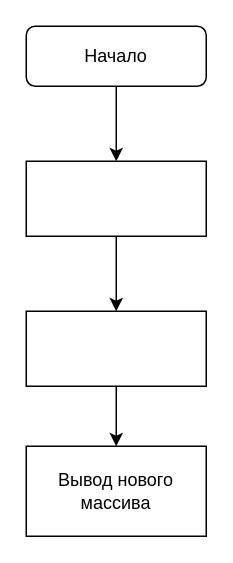
Some shapes in this 233 by 563 pixel diagram are drawn without their labels. The shapes that lost their labels are listed below. From the top down, each one's centre as x and y in pixels, then its label:
point 115,198: Ввод массива
point 115,348: Формирование нового массива
